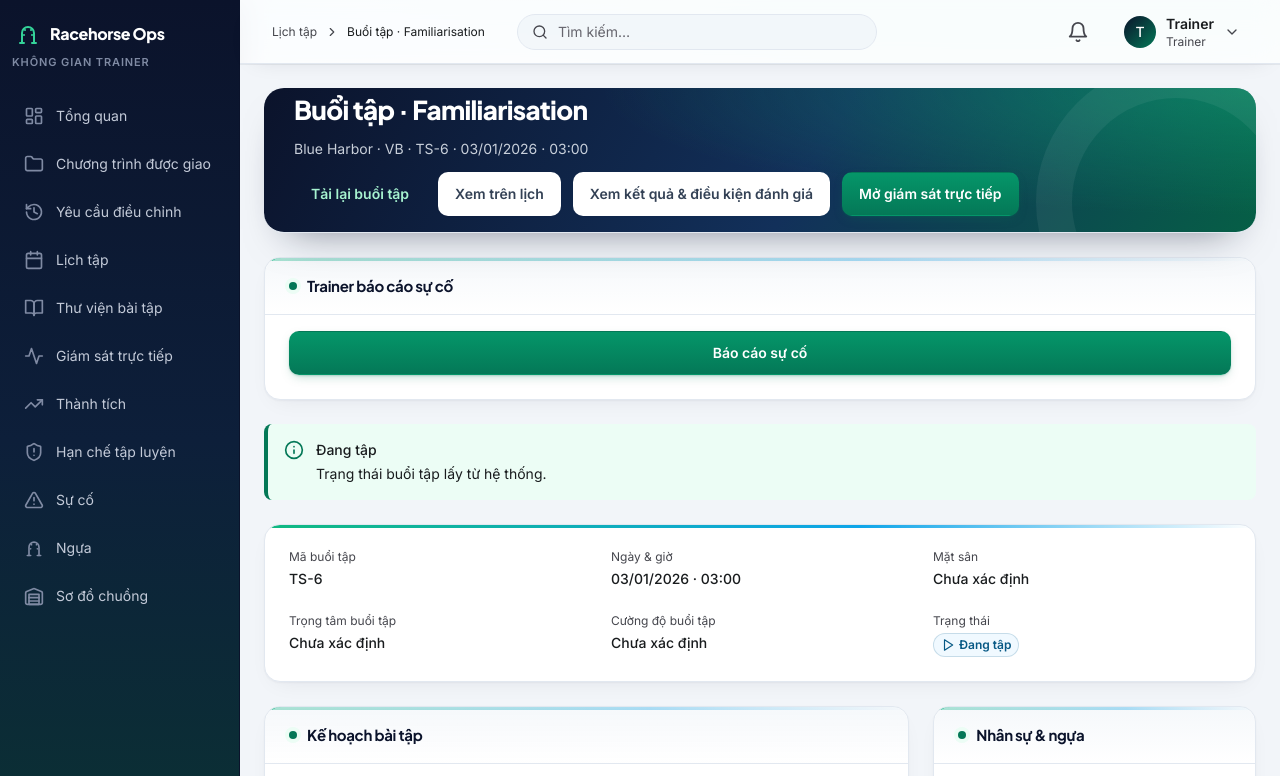
validates incident fields and surfaces API errors without sending invalid payloads
This screenshot has width=1280, height=776.
Click the button "Báo cáo sự cố". click: (760, 353)
box: left=289, top=331, right=1231, bottom=375
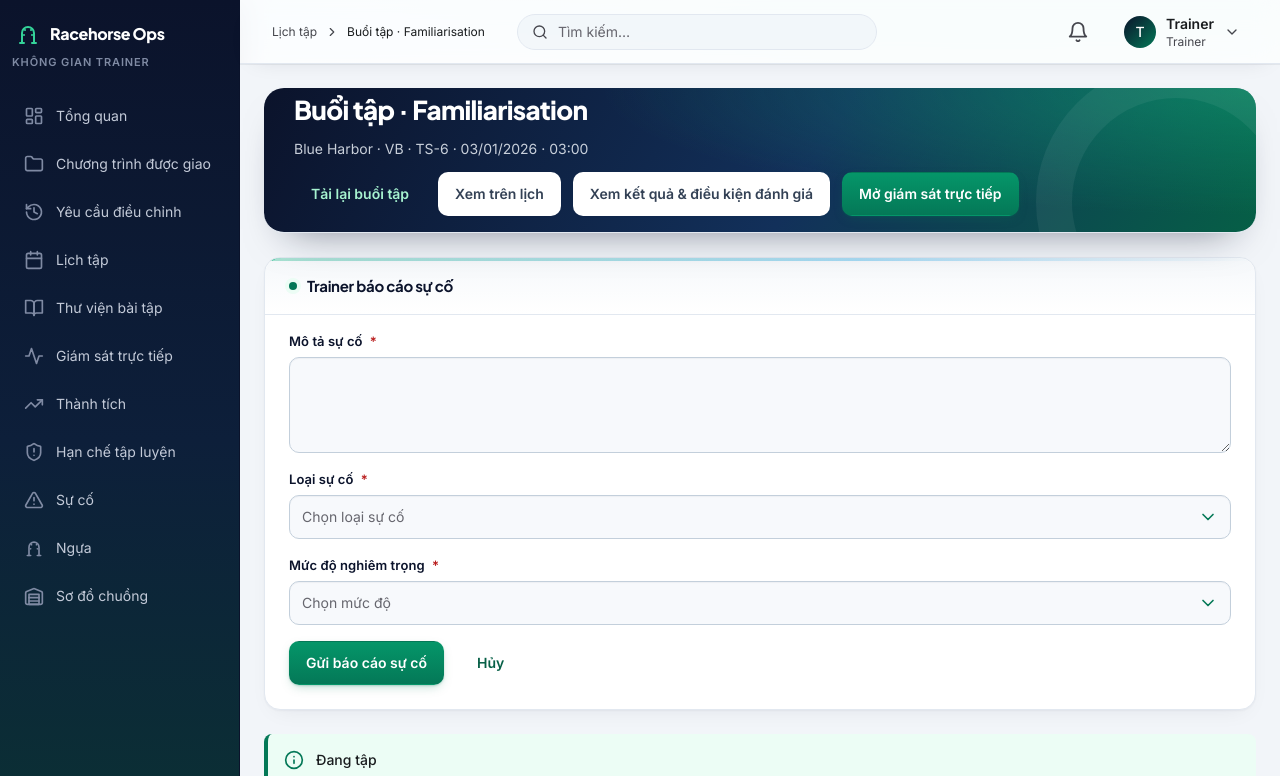
Type "Mô tả hợp lệ" into the text box labelled "Mô tả sự cố". click: (760, 405)
box: left=289, top=357, right=1231, bottom=453
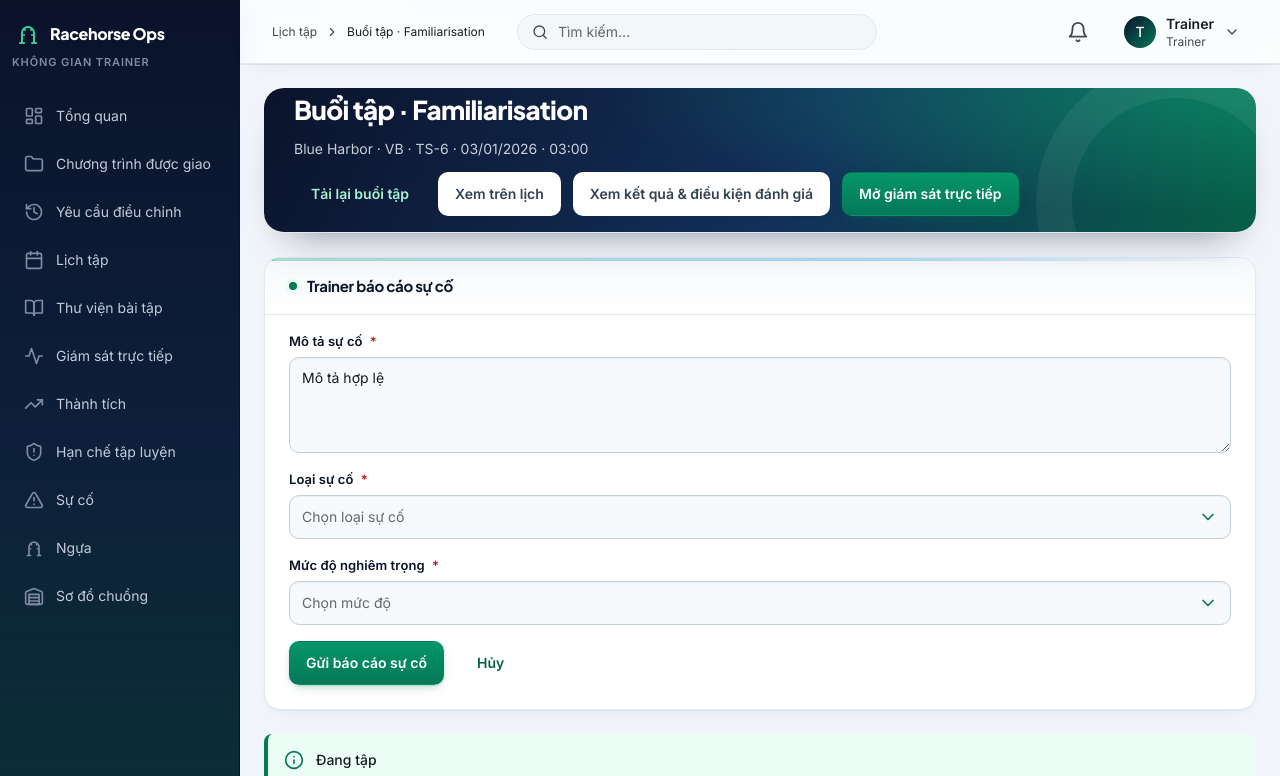
Submit the form "báo cáo sự cố", box left=289, top=331, right=1231, bottom=685
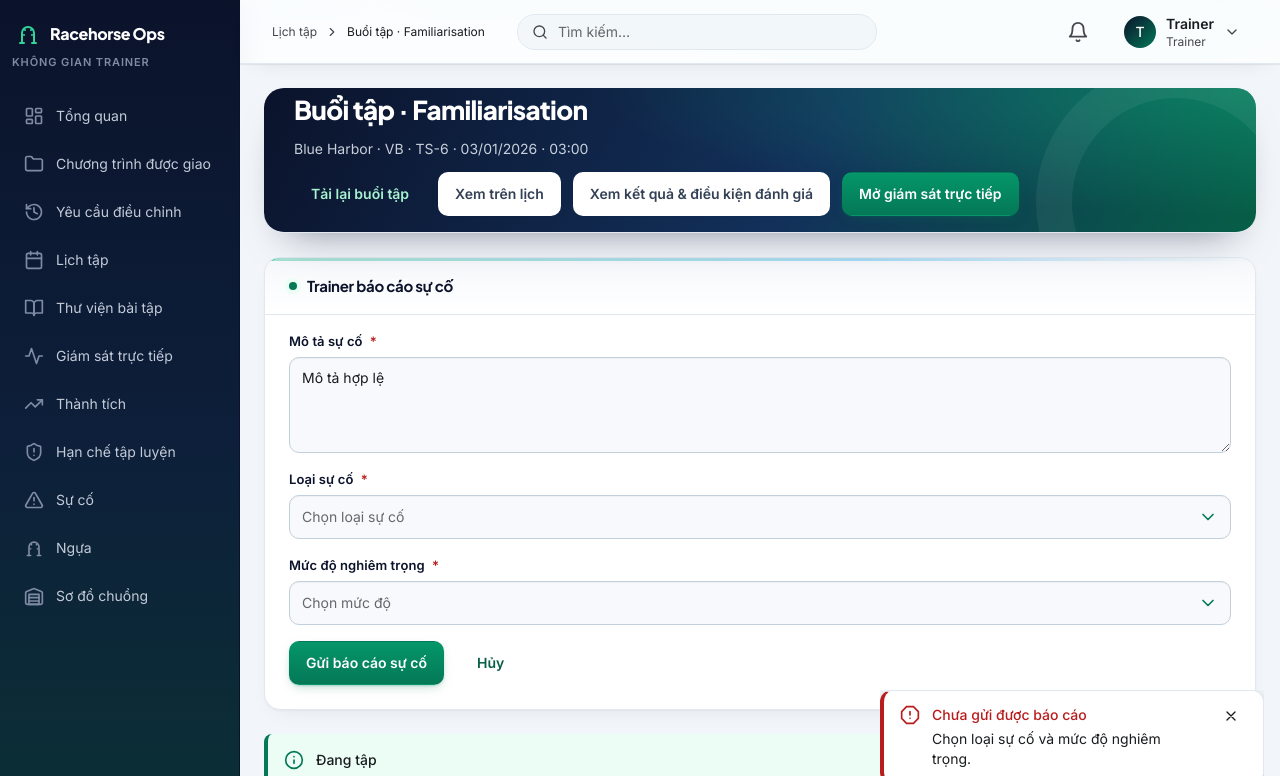
Expected: the text "Chọn loại sự cố và mức độ nghiêm trọng." is shown, left=932, top=730, right=1161, bottom=767
Select "Khập khiễng, bước không đều" in the dropdown labelled "Loại sự cố". click: (760, 517)
box: left=290, top=496, right=1230, bottom=538
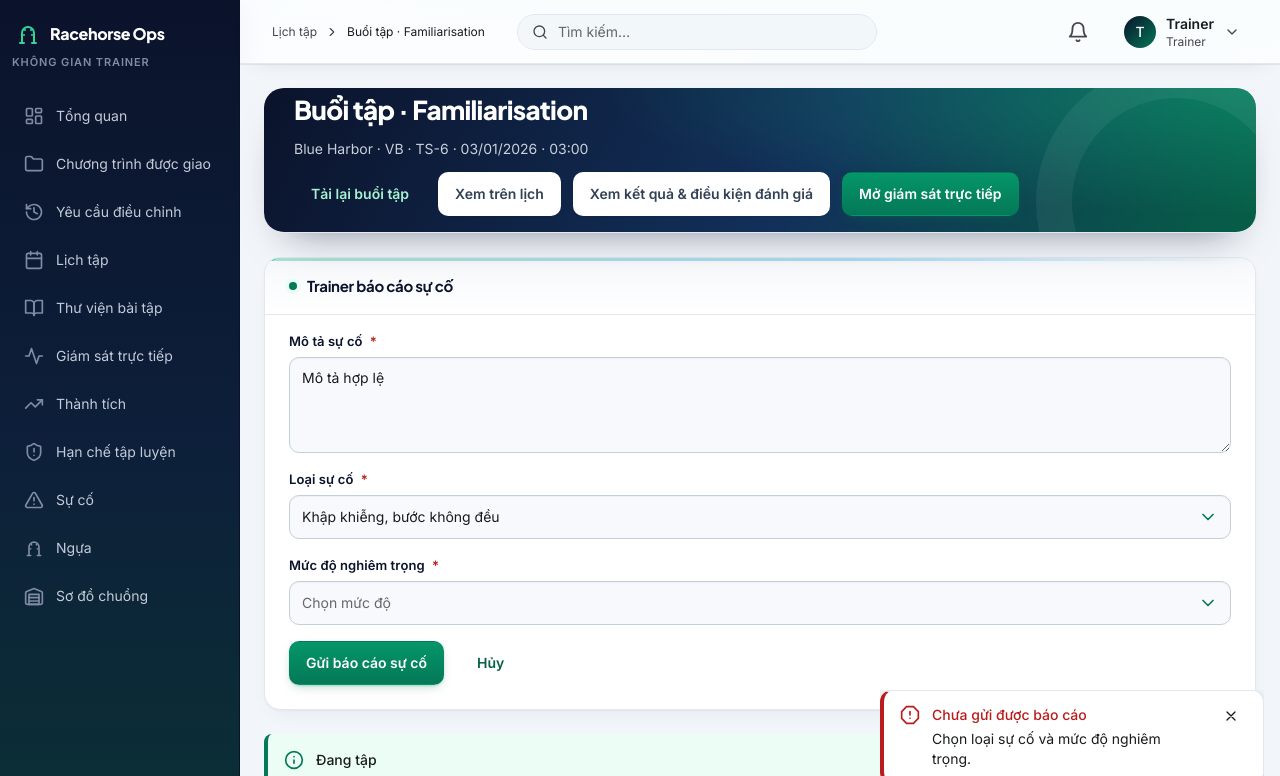
Select "Trung bình" in the dropdown labelled "Mức độ nghiêm trọng". click: (760, 603)
box: left=290, top=582, right=1230, bottom=624
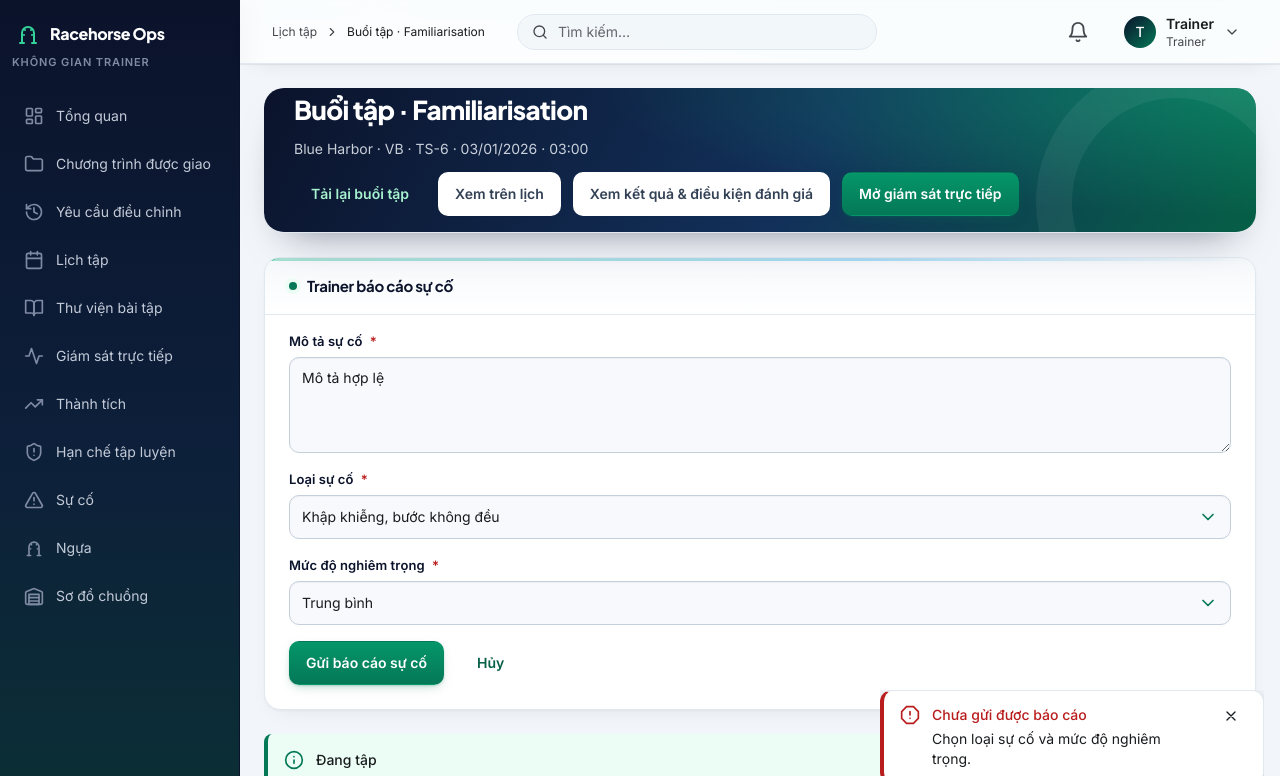
Click the button "Gửi báo cáo sự cố". click: (366, 663)
box: left=289, top=641, right=444, bottom=685
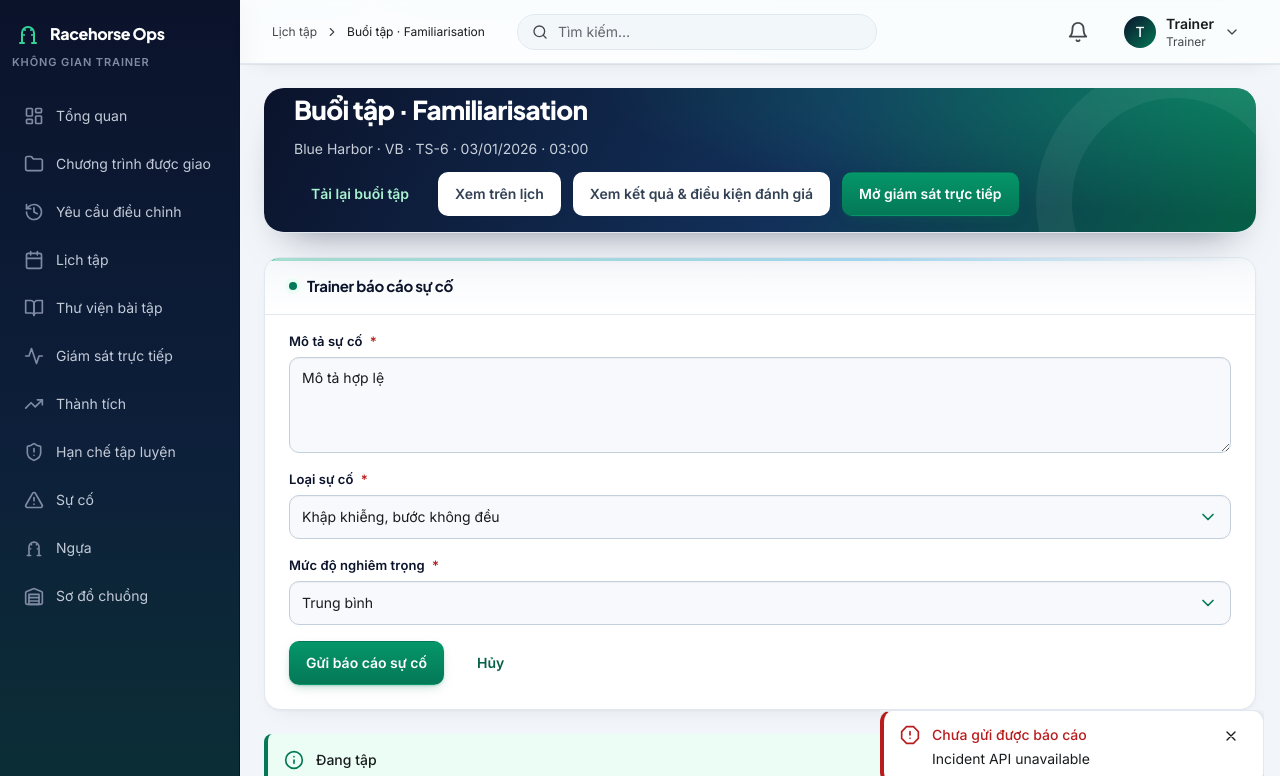
Expected: the text "Incident API unavailable" is shown, left=932, top=750, right=1090, bottom=767
